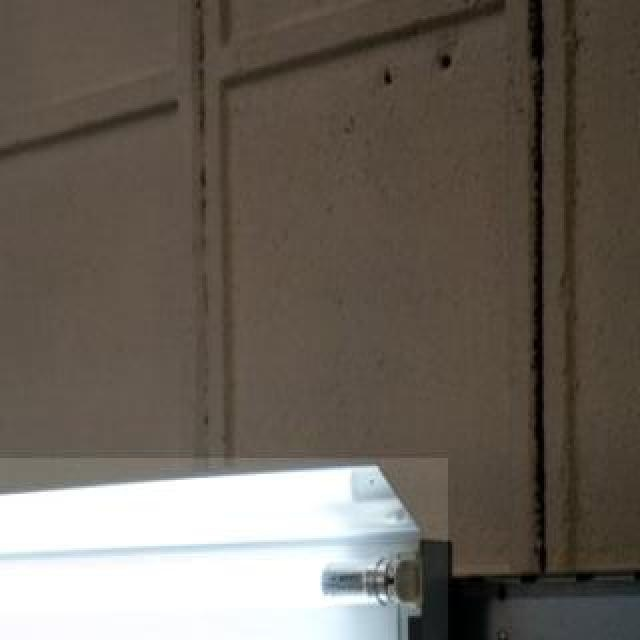fluorescent tube: (0, 522, 462, 632)
